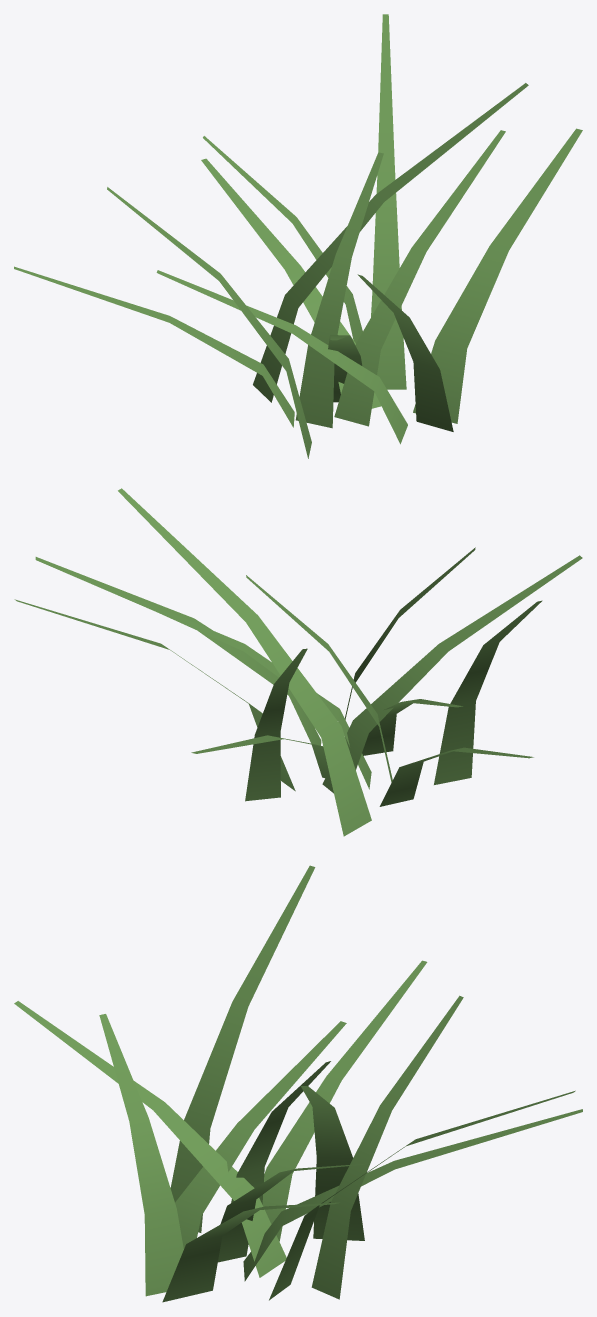
File: Grass_Tuft.glb
The picture shows the model from 3 angles, top to bottom: view 1: azimuth 30°, elevation 25°; view 2: azimuth 150°, elevation 25°; view 3: azimuth 270°, elevation 25°; orthographic projection. The views are drawn at different scales.
Parts seen in each view (by area): view 1: Grass_Tuft; view 2: Grass_Tuft; view 3: Grass_Tuft.
Boxes of the visible parts, box(x1,y1,x2,y2) form: Grass_Tuft: box(14, 14, 582, 458); Grass_Tuft: box(14, 488, 582, 836); Grass_Tuft: box(14, 865, 582, 1302).
Bounding box in the file's own units: 0.8712 × 0.4096 × 0.731.
